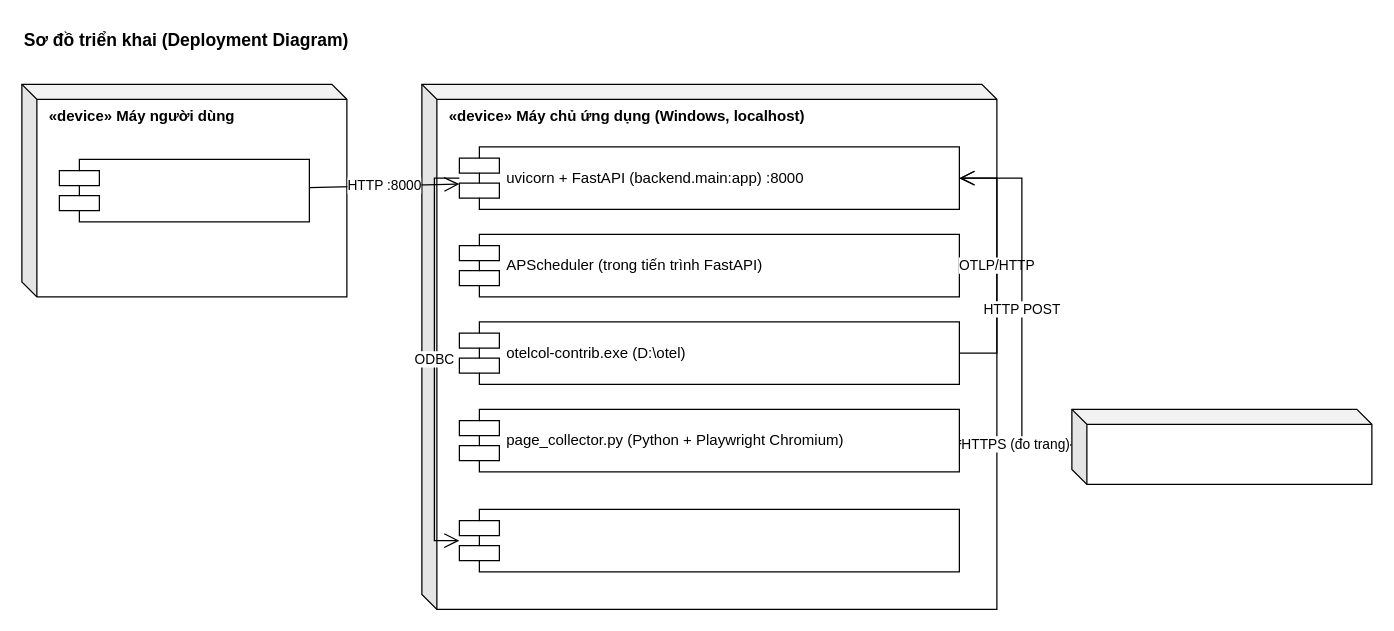
This 1394x631 diagram has some shape labels left out. The shapes that lost their labels are listed below. From the top down, each one's centre as x and y in pixels, then its label:
the point at 183,190: Trình duyệt (Chrome/Edge)
the point at 1221,446: «external» Website của sản phẩm (URL được đăng ký)
the point at 708,540: SQL Server Express (localhost\SQLEXPRESS) - GreenDashDB
